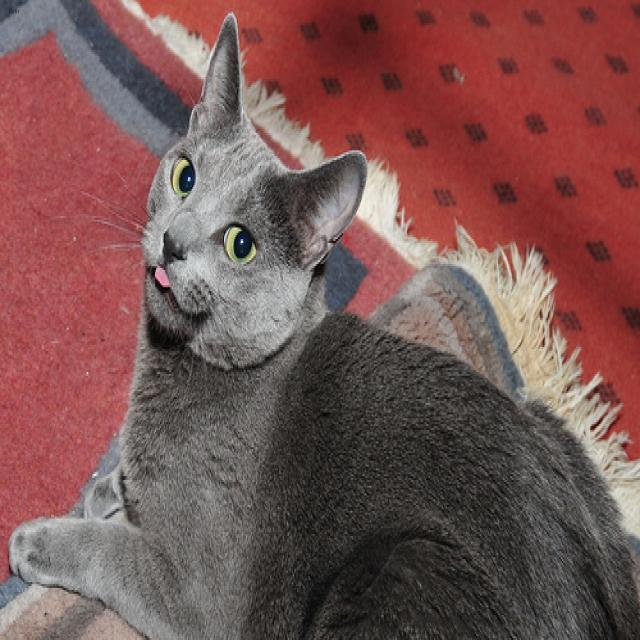Russian_Blue: (141, 10, 366, 337)
